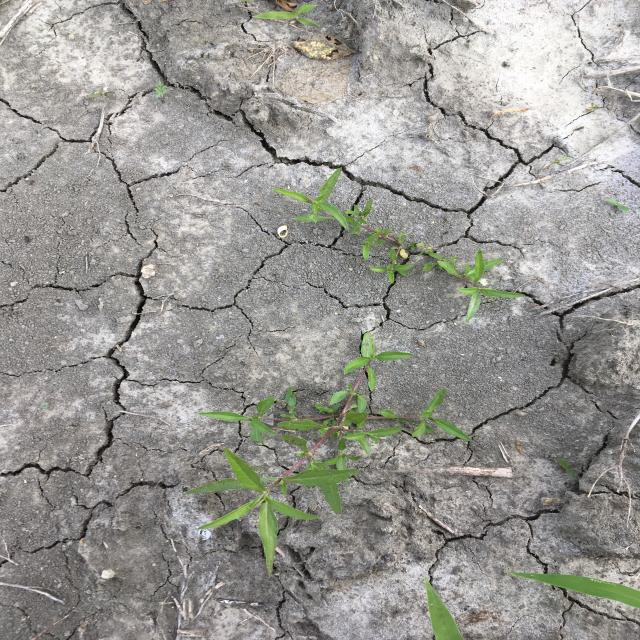Eclipta: (180, 330, 472, 582), (270, 166, 528, 325)
